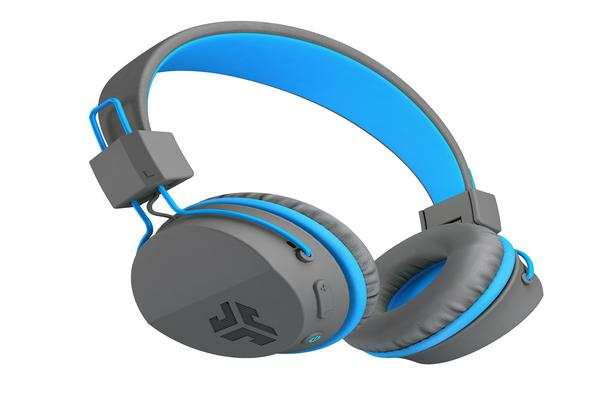headphone: (49, 29, 565, 373)
